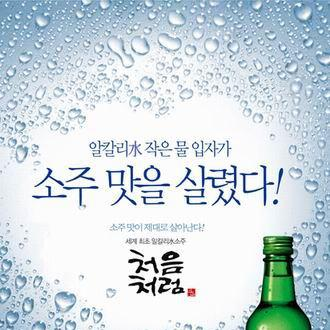soju: (241, 230, 315, 330)
